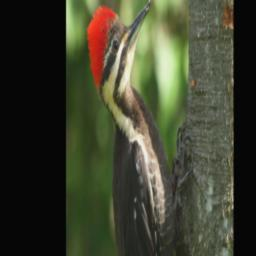Woodpecker: (87, 0, 191, 256)
